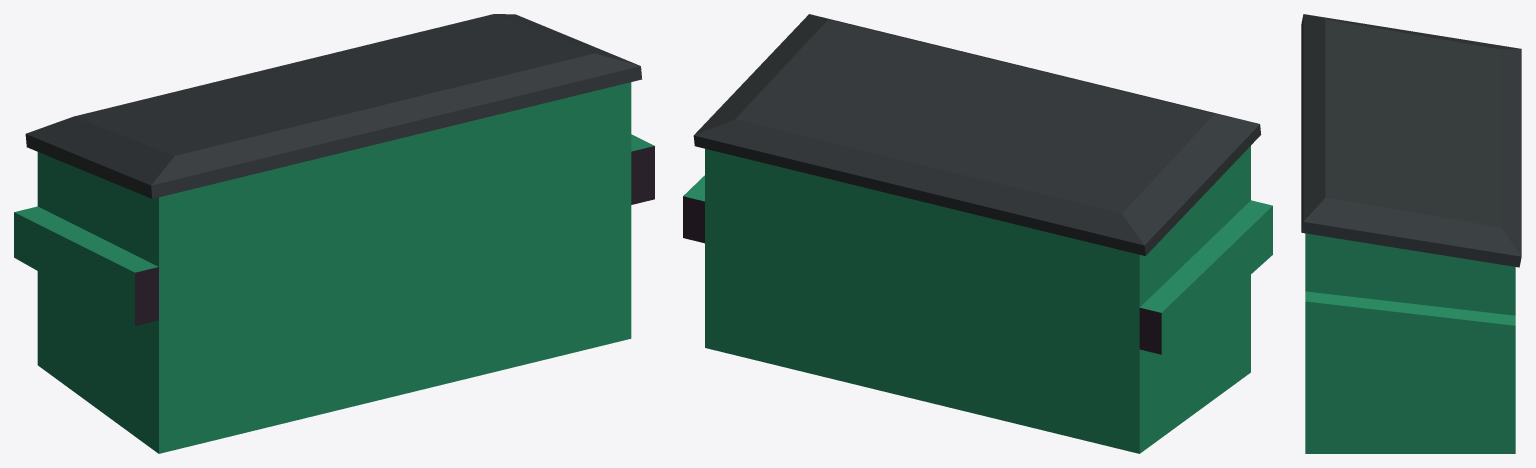
File: Dumpster.fbx
3 views of the same model, side by side, from view 1: azimuth 30°, elevation 25°; view 2: azimuth 150°, elevation 25°; view 3: azimuth 270°, elevation 25° (orthographic). The views are drawn at different scales.
Visible parts, largest first — view 1: Cube; view 2: Cube; view 3: Cube.
Boxes of the visible parts, box(x1,y1,x2,y2) form: Cube: box(14, 14, 654, 453); Cube: box(683, 14, 1272, 453); Cube: box(1301, 14, 1521, 453).
Bounding box in the file's own units: 496 × 258 × 209.
